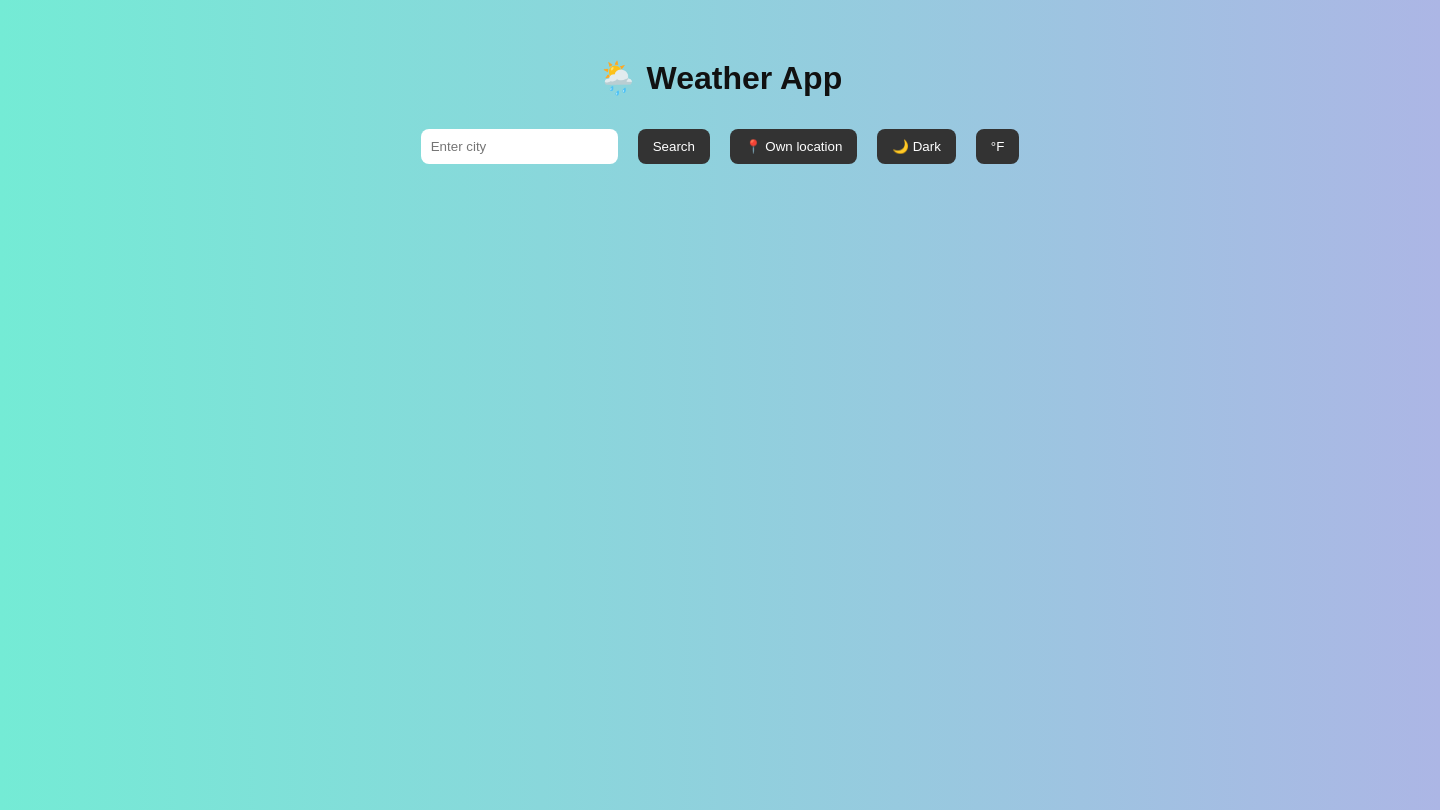
Test: Weather › clears the previous city's weather and explains the problem when the network fails
Type "Helsinki" into the field labelled "city".
click(519, 146); type("Helsinki")  # box [421,129,618,164]
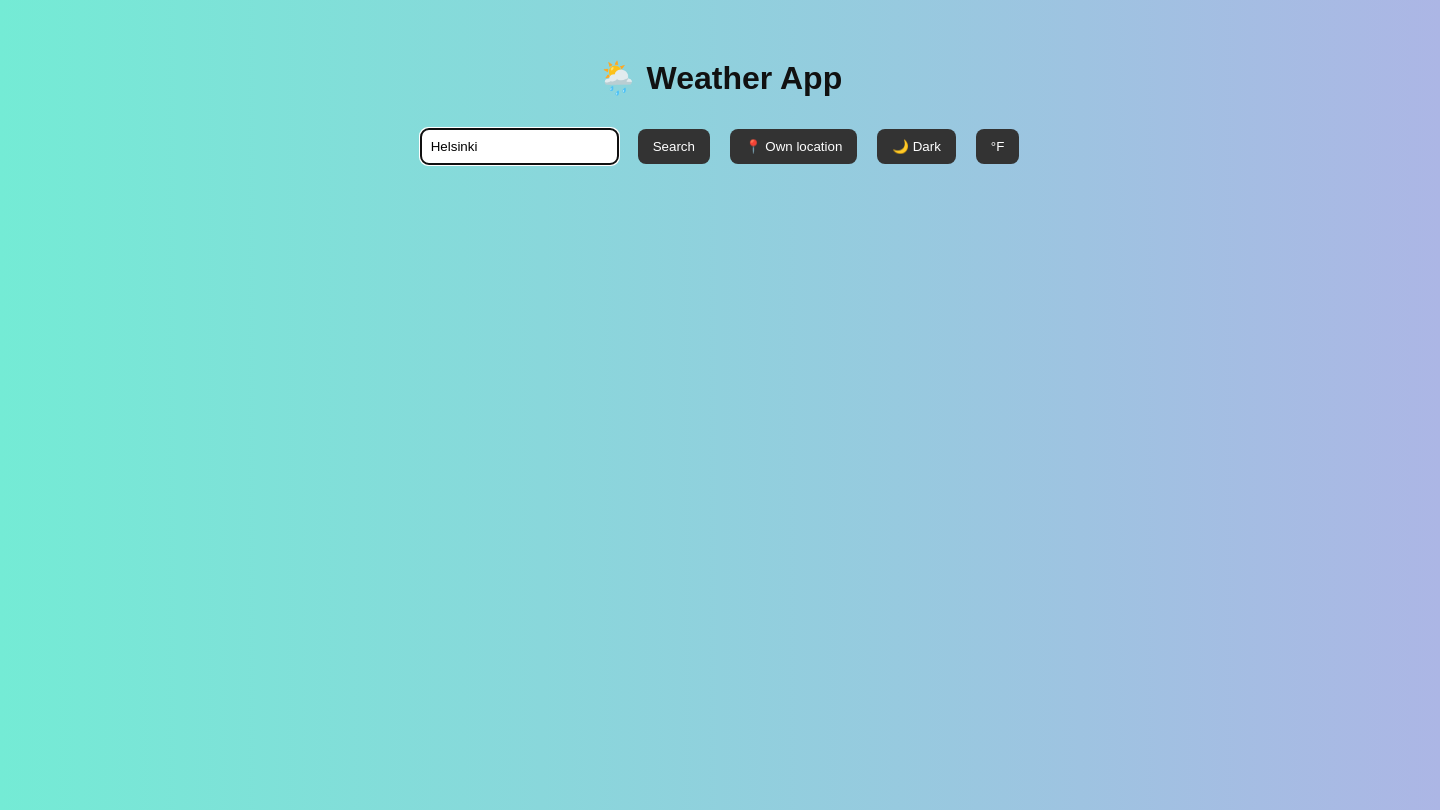
Click the button "Search".
click(674, 146)  # box [638,129,710,164]
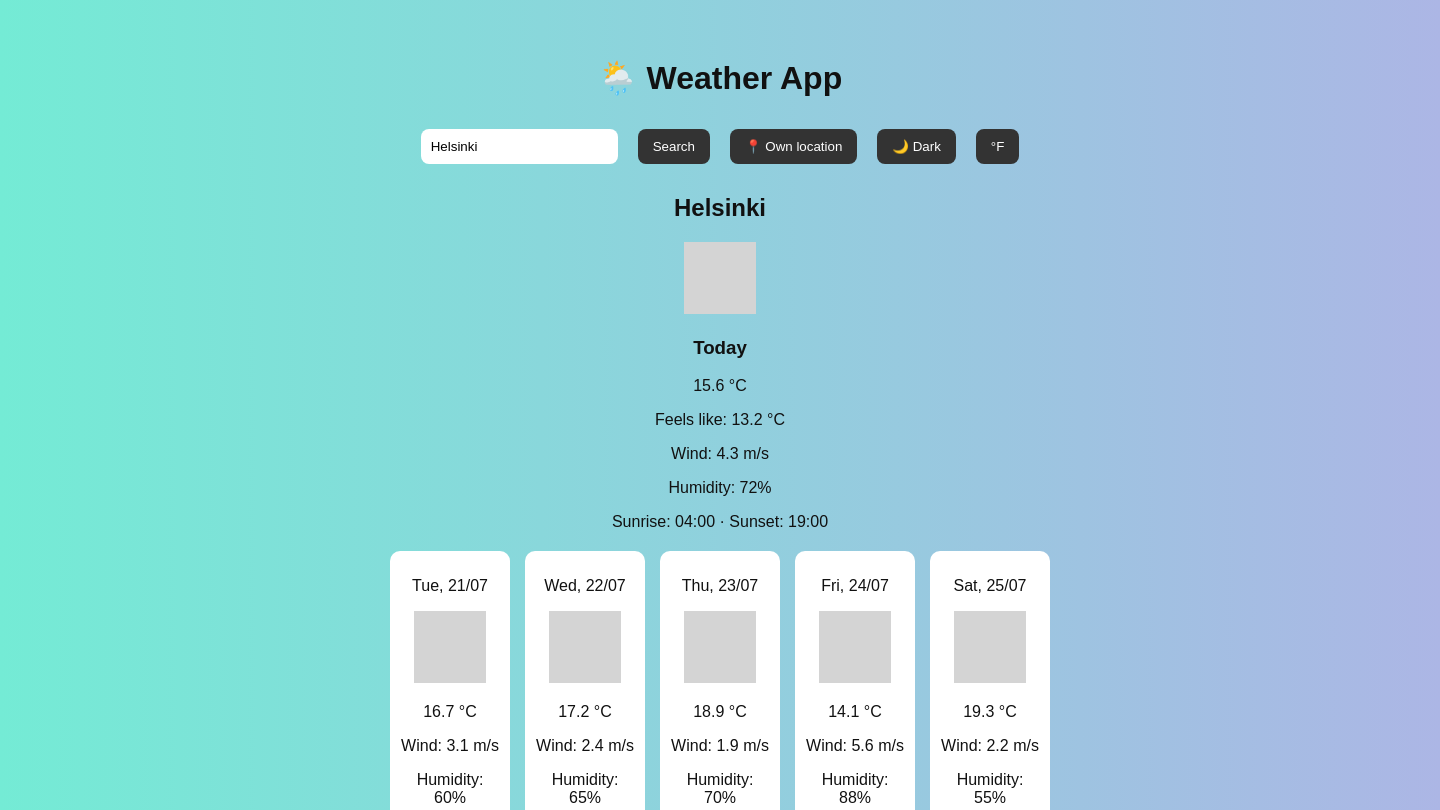
Expected: the heading "Helsinki" is shown, [674,194,766,221]
Replace the text in the field named "city" with "Oslo" at (519, 146), box [421,129,618,164]
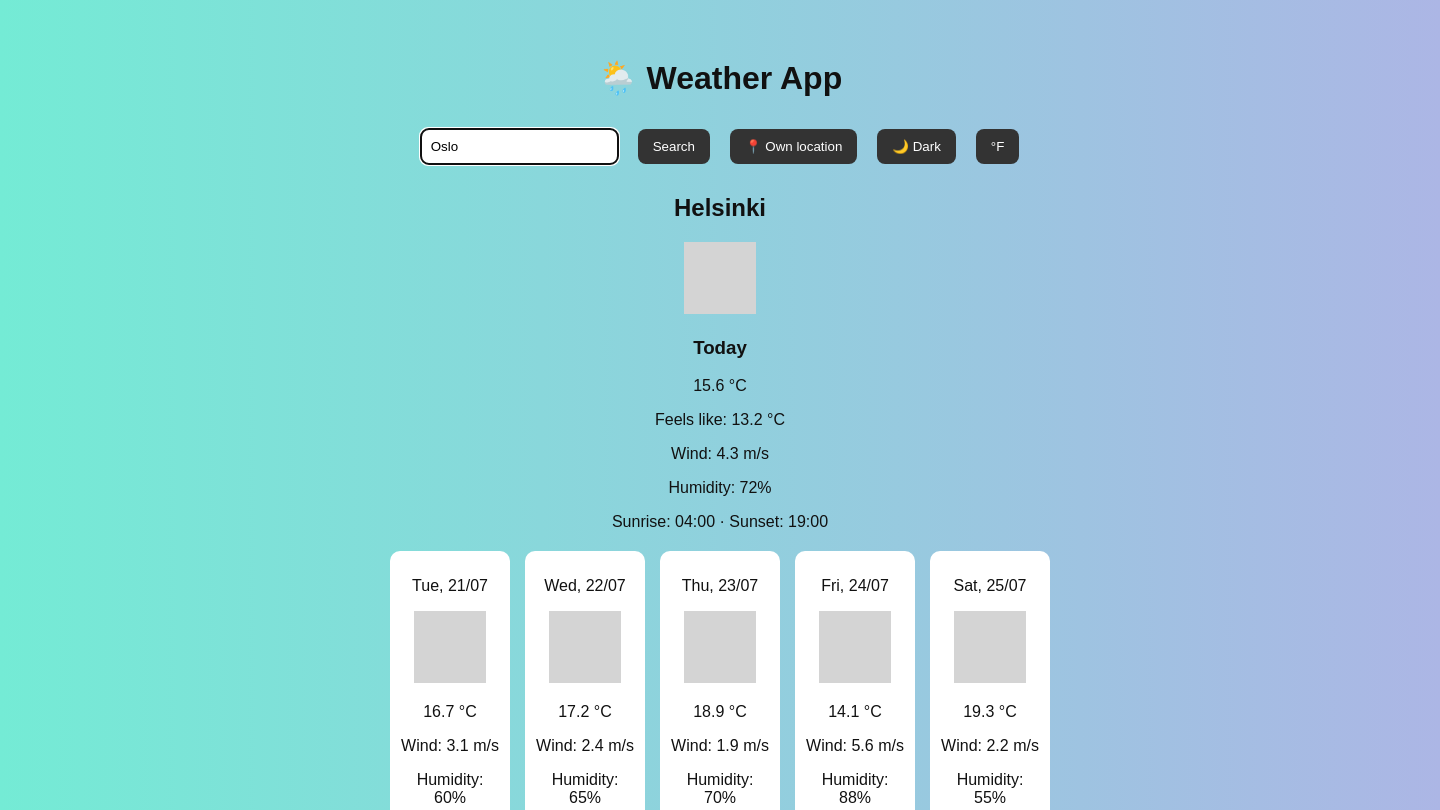
Click the button "Search".
click(674, 146)  # box [638,129,710,164]
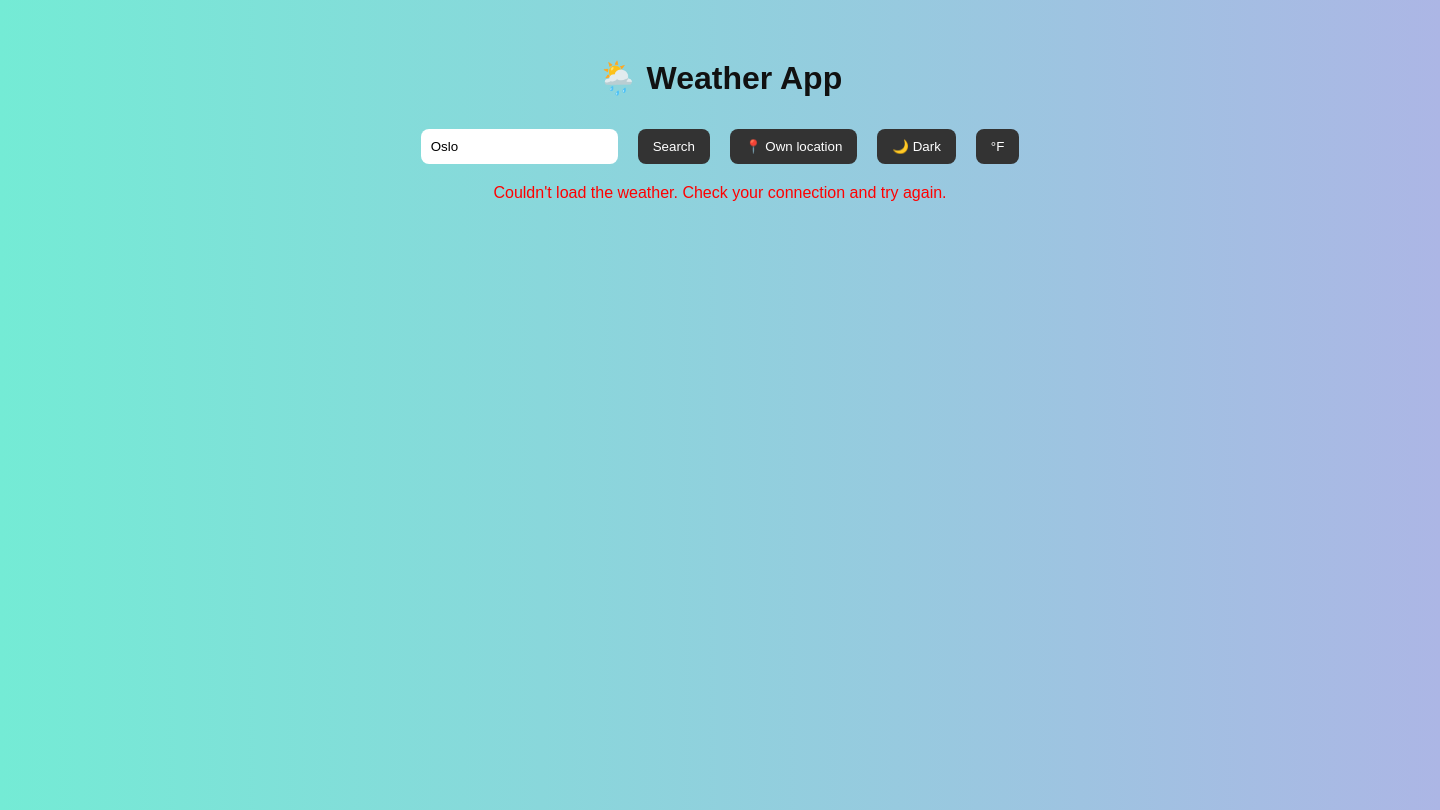
Expected: the text "Couldn't load the weather. Check your connection and try again." is shown, [493,184,946,201]
Expected: the heading "Helsinki" is gone
